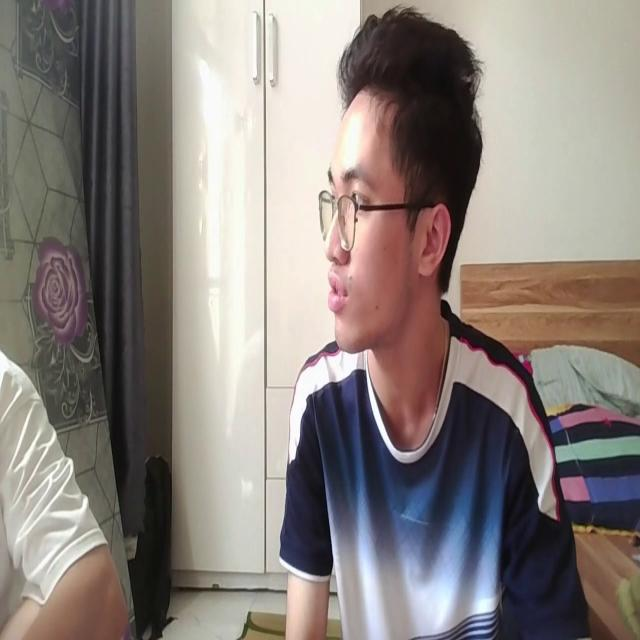extra_person: (0, 343, 133, 640)
student: (277, 2, 595, 640)
